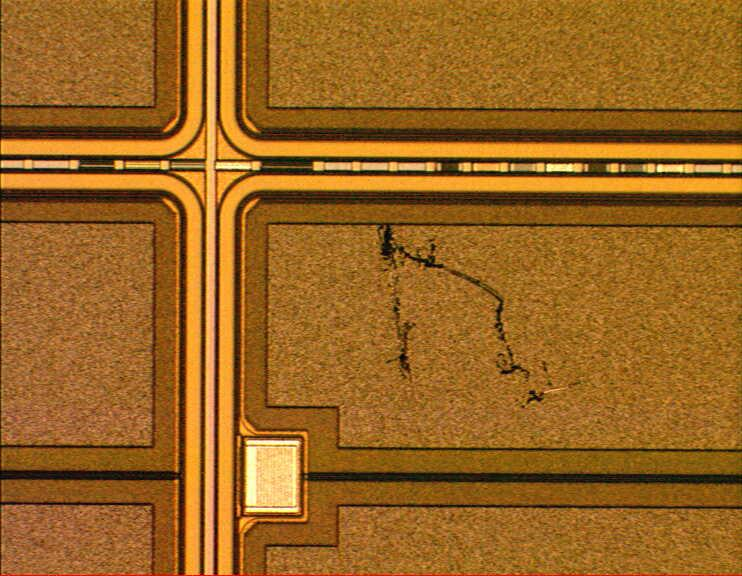SCRATCH: (360, 214, 592, 407)
